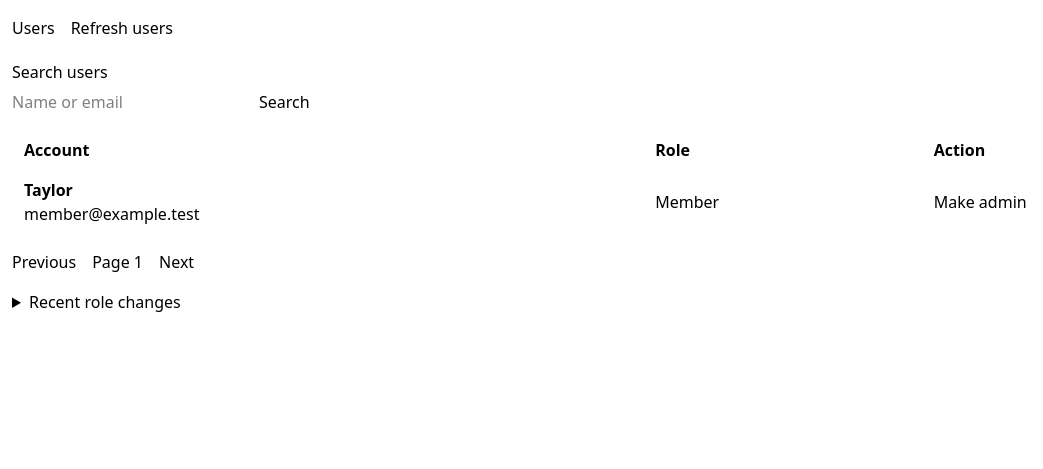
Scenario: preserves a rejected edit and lets the admin refresh
Click the button with aria-label "Make member@example.test an admin": x=980, y=202 [934,190,1027,214]
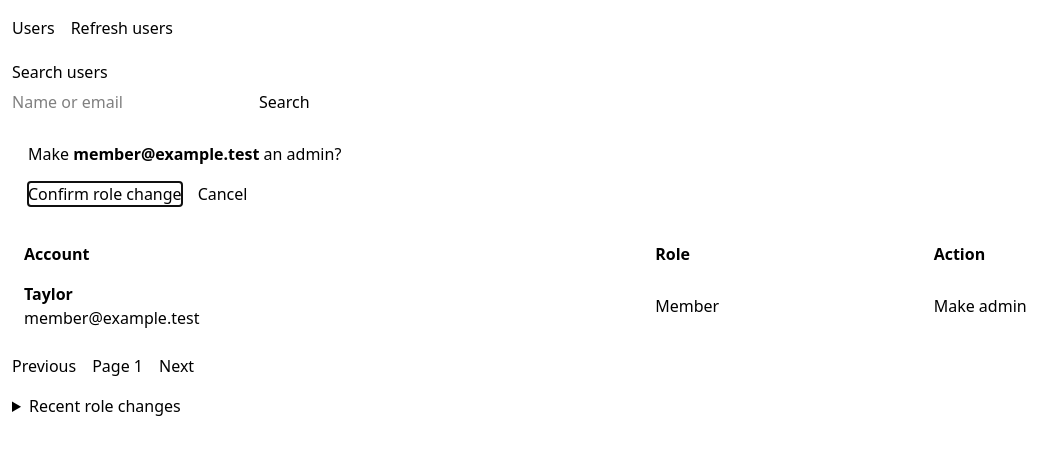
Click the button "Confirm role change": x=105, y=194 [28,182,182,206]
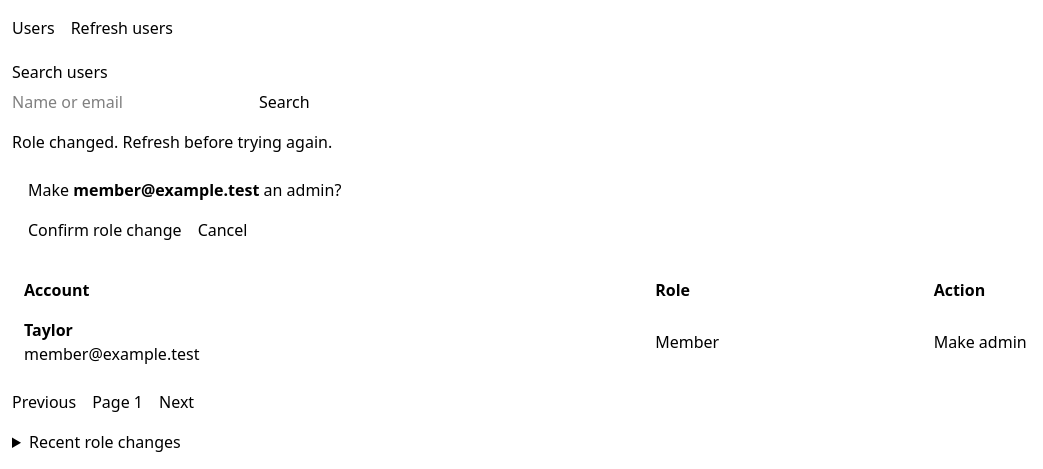
Check: the element "Confirm role change" is shown, box [28,179,341,242]
Check: the message shows "Role changed", box [12,131,332,153]
Click the button "Refresh users": x=122, y=28 [71,16,173,40]
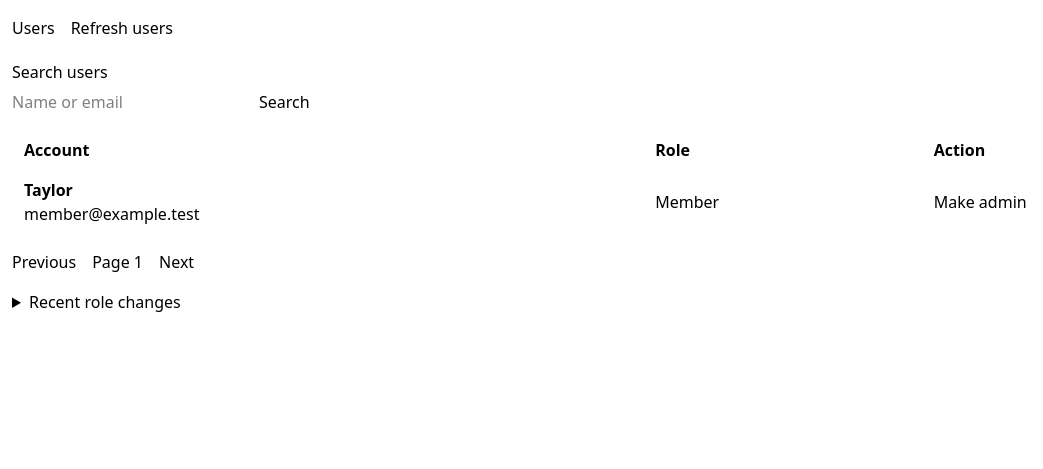
Check: the button "Confirm role change" is gone
